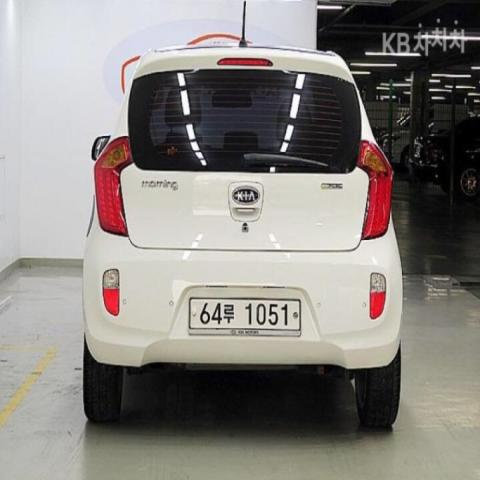LP: (187, 291, 304, 339)
